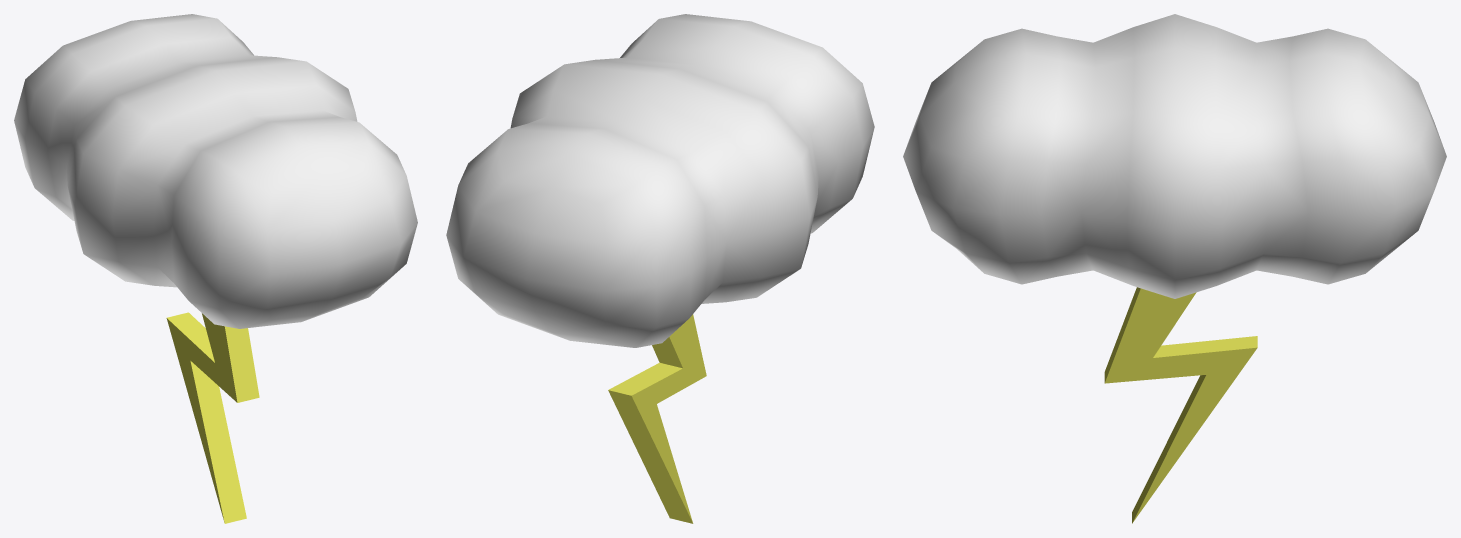
The model's file is ThunderCloud.fbx.
The picture shows the model from 3 angles, left to right: view 1: azimuth 30°, elevation 25°; view 2: azimuth 150°, elevation 25°; view 3: azimuth 270°, elevation 25°; orthographic projection. The views are drawn at different scales.
Parts seen in each view (by area): view 1: ThunderCloud; view 2: ThunderCloud; view 3: ThunderCloud.
Part boxes in pixels (<box>): ThunderCloud: <box>14,14,417,523</box>; ThunderCloud: <box>446,14,874,523</box>; ThunderCloud: <box>903,14,1446,523</box>.
Size of the model in its own units: 0.3293 by 0.4852 by 0.509.
1 material, 1 textured.
